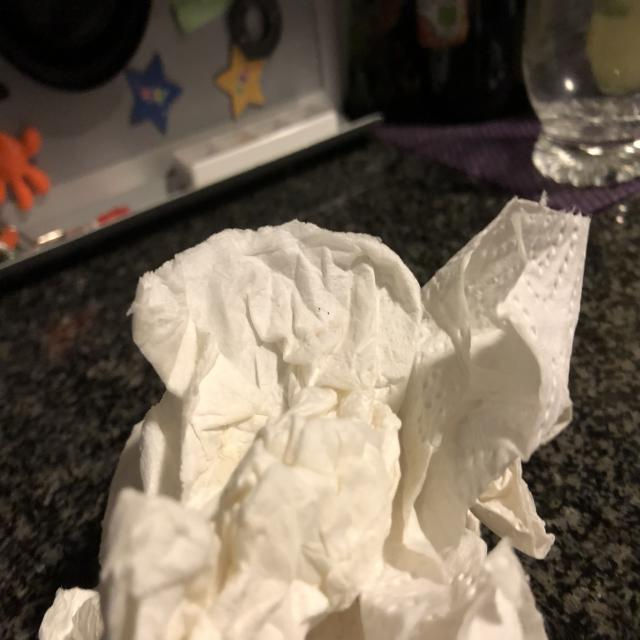kitchen paper: (35, 186, 592, 640)
